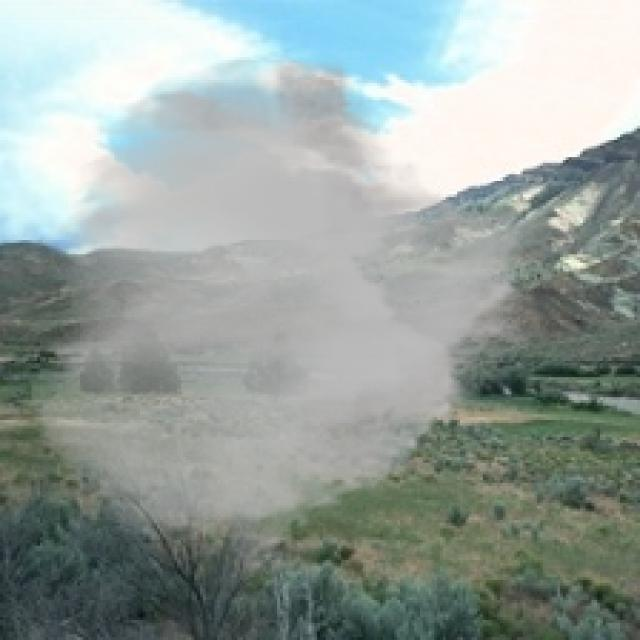Smoke: (26, 51, 552, 572)
